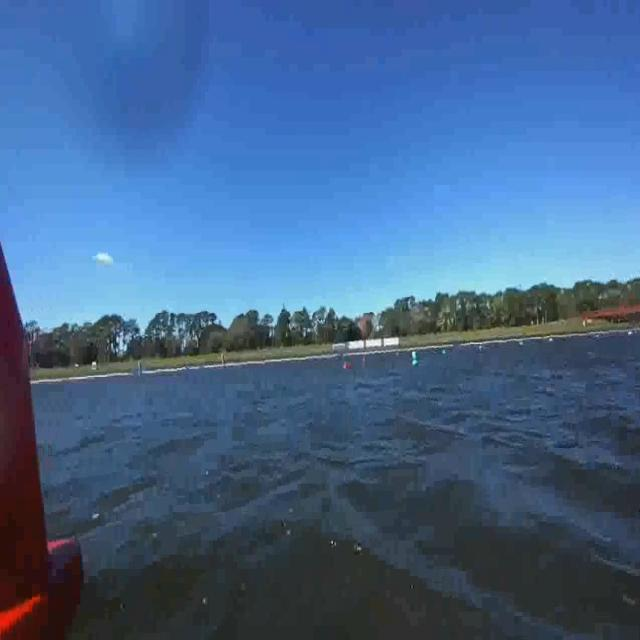green-buoy: (412, 350, 420, 368)
red-buoy: (346, 362, 350, 369)
red-column-buoy: (0, 215, 86, 631)
